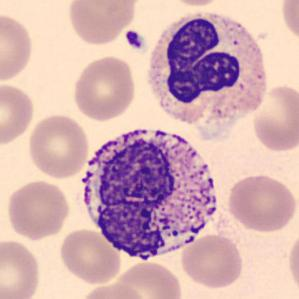Basophil: (71, 118, 226, 270)
Monocyte: (141, 6, 271, 139)
Platelets: (123, 29, 145, 50)
RBC: (70, 54, 138, 122), (224, 172, 297, 234), (26, 112, 90, 180), (5, 178, 72, 241), (178, 232, 246, 291), (57, 227, 123, 286), (65, 0, 139, 47), (250, 83, 298, 152), (113, 259, 184, 299), (0, 237, 43, 299), (0, 11, 35, 84), (0, 80, 36, 147), (77, 281, 147, 299), (285, 229, 299, 296), (279, 0, 299, 43), (165, 0, 223, 7)
